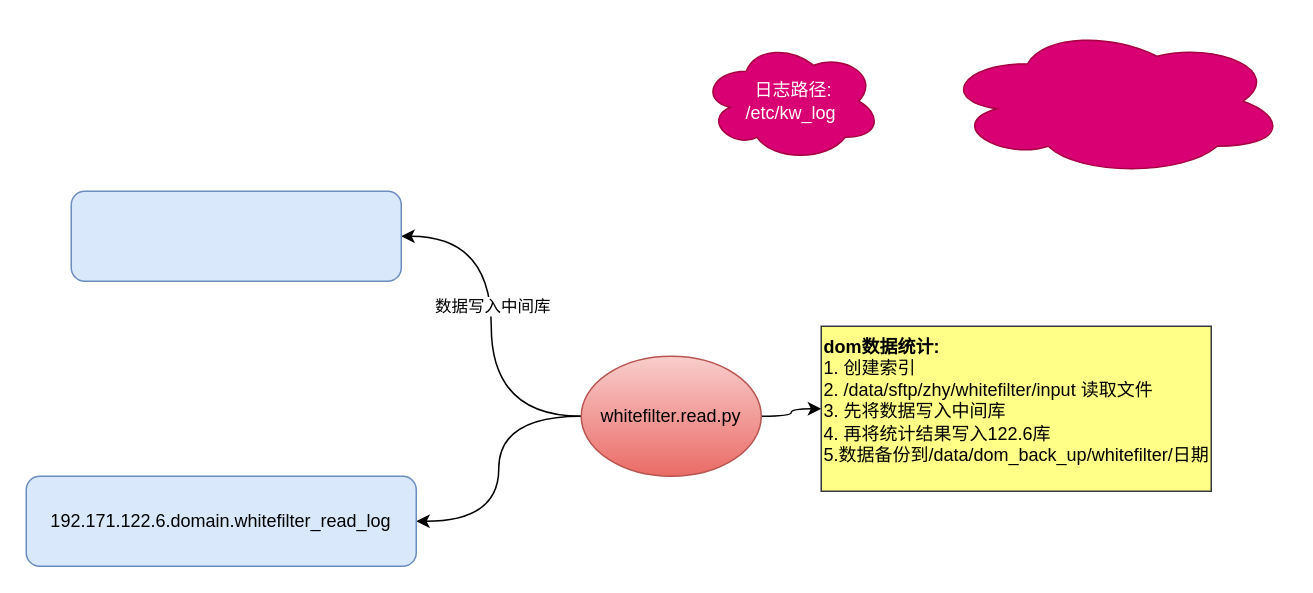
This 1313x593 diagram has some shape labels left out. Each missing label, with the centre of its shape:
中间库.hebeiliantong.whitefilter: point (235, 235)
部分程序进行了打包: 1. 编译成.so 2. 替换原py模块 3. pyinstaller打包: point (1113, 100)
